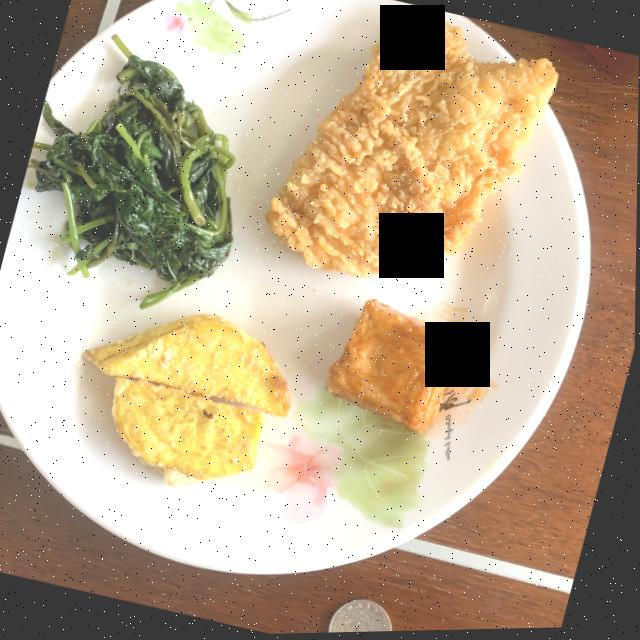coin: (329, 600, 393, 634)
creamy tofu: (326, 300, 469, 434)
fried chicken cutlet: (265, 21, 557, 279)
sweet potato leaves: (26, 35, 234, 308)
